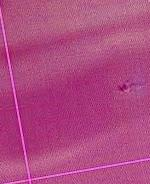knot: (116, 79, 137, 97)
